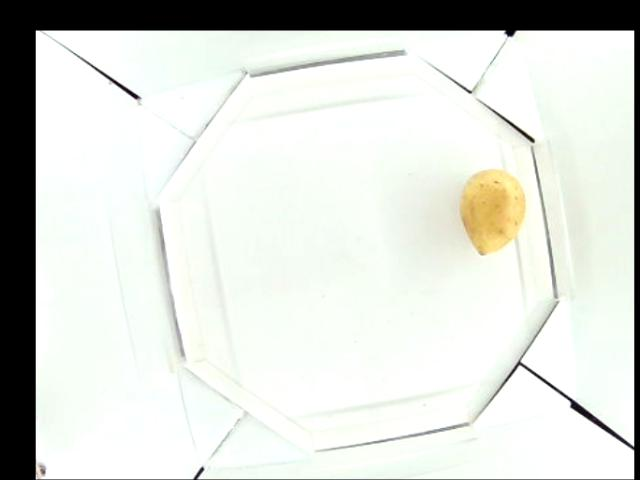Potato: (458, 168, 529, 255)
